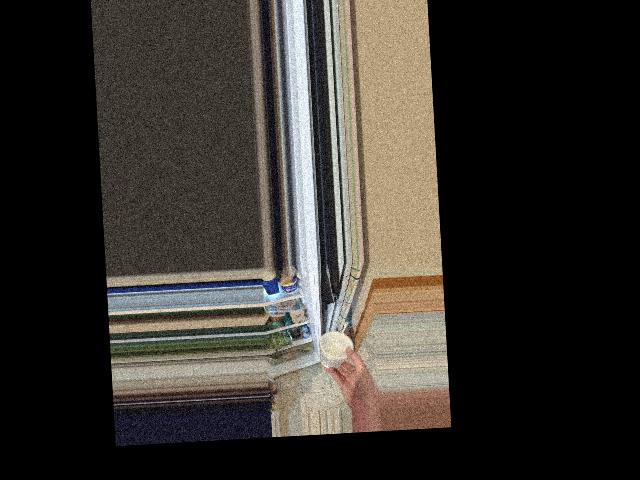cotage: (320, 330, 351, 366)
